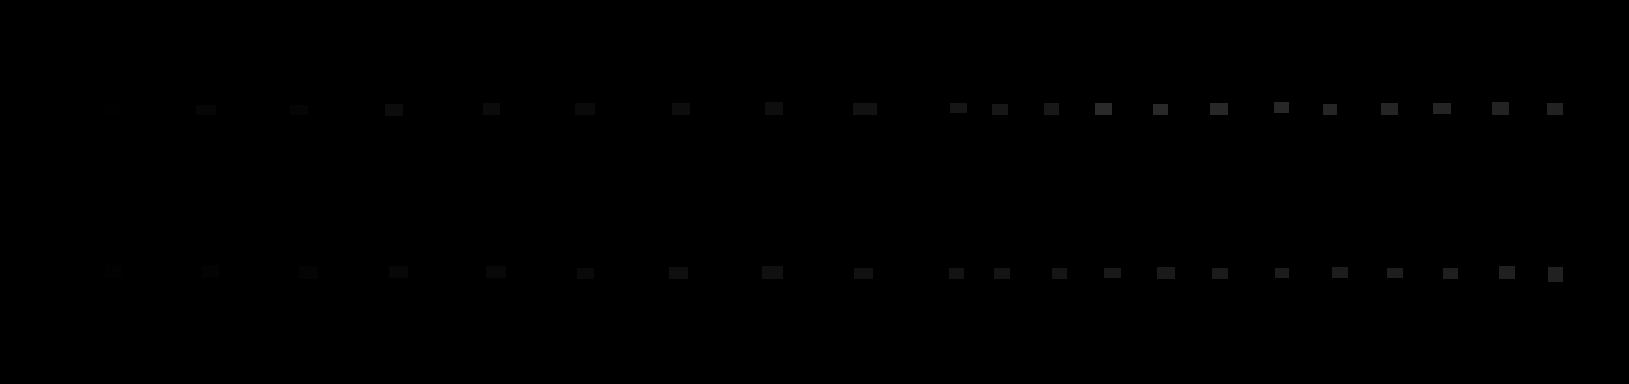light: (853, 103, 877, 115), (762, 266, 783, 279), (575, 103, 595, 115), (299, 266, 318, 279), (765, 102, 783, 115), (389, 266, 408, 278), (486, 266, 506, 278), (105, 265, 123, 278), (202, 265, 219, 278), (669, 267, 688, 279), (1548, 267, 1563, 282), (1492, 102, 1508, 115), (385, 104, 403, 116), (672, 103, 690, 115), (1157, 267, 1175, 279), (1381, 103, 1398, 115), (1210, 103, 1228, 115), (854, 268, 873, 279), (1433, 103, 1451, 114), (1499, 266, 1515, 279), (483, 103, 500, 115), (1095, 103, 1112, 115), (196, 105, 216, 115), (577, 268, 594, 279), (1547, 103, 1563, 115), (104, 105, 121, 116), (1332, 267, 1348, 278), (290, 105, 308, 115), (950, 103, 967, 113), (1044, 103, 1059, 115), (949, 268, 964, 279), (994, 268, 1010, 279), (992, 104, 1008, 115), (1212, 268, 1228, 279), (1274, 102, 1289, 113), (1104, 268, 1121, 278), (1052, 268, 1067, 279), (1443, 268, 1458, 279), (1323, 104, 1337, 115), (1153, 104, 1168, 115), (1387, 268, 1403, 278), (1275, 268, 1289, 278)
